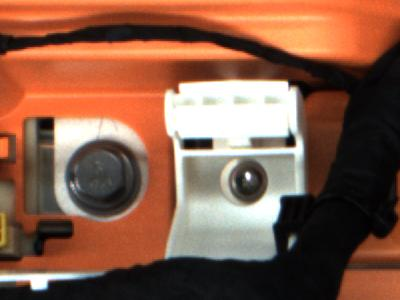nut_b: (61, 133, 147, 220)
